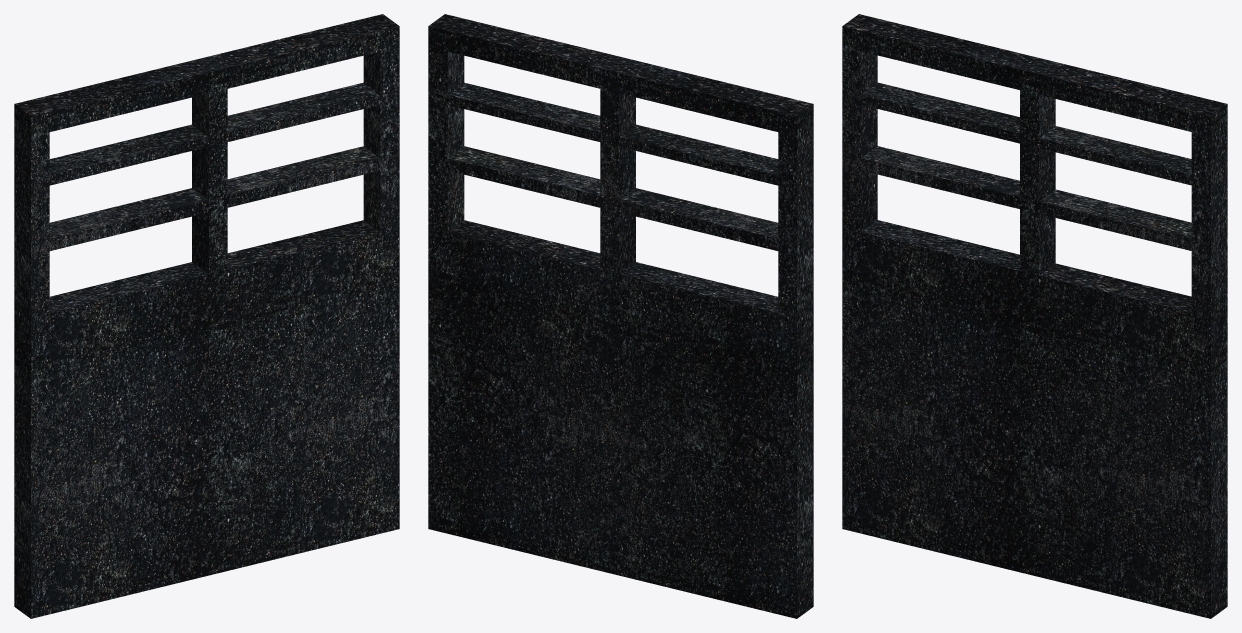
File: Puerta02.obj
3 views of the same model, side by side, from view 1: azimuth 30°, elevation 25°; view 2: azimuth 150°, elevation 25°; view 3: azimuth 330°, elevation 25° (orthographic).
Parts seen in each view (by area): view 1: Cuadro:polySurface9; view 2: Cuadro:polySurface9; view 3: Cuadro:polySurface9.
Boxes of the visible parts, x1,y1,x2,y2 form: Cuadro:polySurface9: (14,14,399,618); Cuadro:polySurface9: (428,14,813,618); Cuadro:polySurface9: (842,14,1227,618).
Size of the model in its own units: 1.18 by 1.54 by 0.0936.
Materials: 1 (1 with a texture image).
